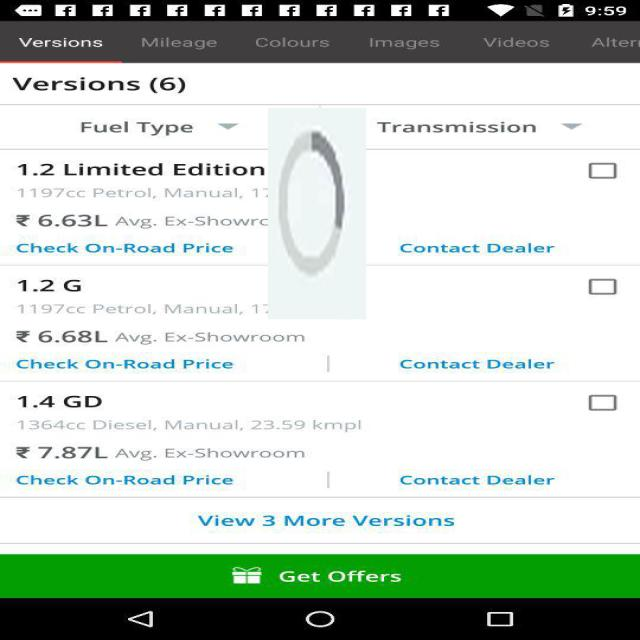misdirection: (268, 108, 366, 319)
